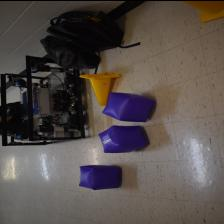cone: (79, 72, 121, 106), (181, 0, 224, 22)
cube: (102, 90, 156, 122), (98, 124, 148, 152), (78, 164, 120, 190)
